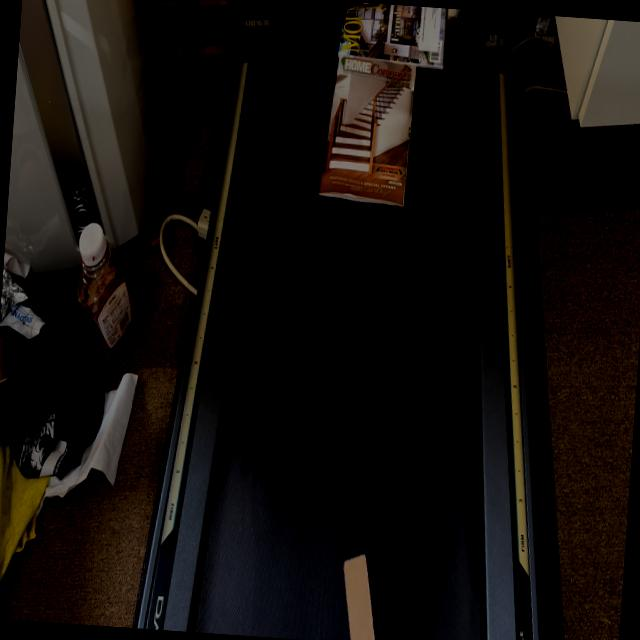Recycle: (320, 58, 419, 220), (336, 1, 448, 71), (334, 550, 382, 640)
